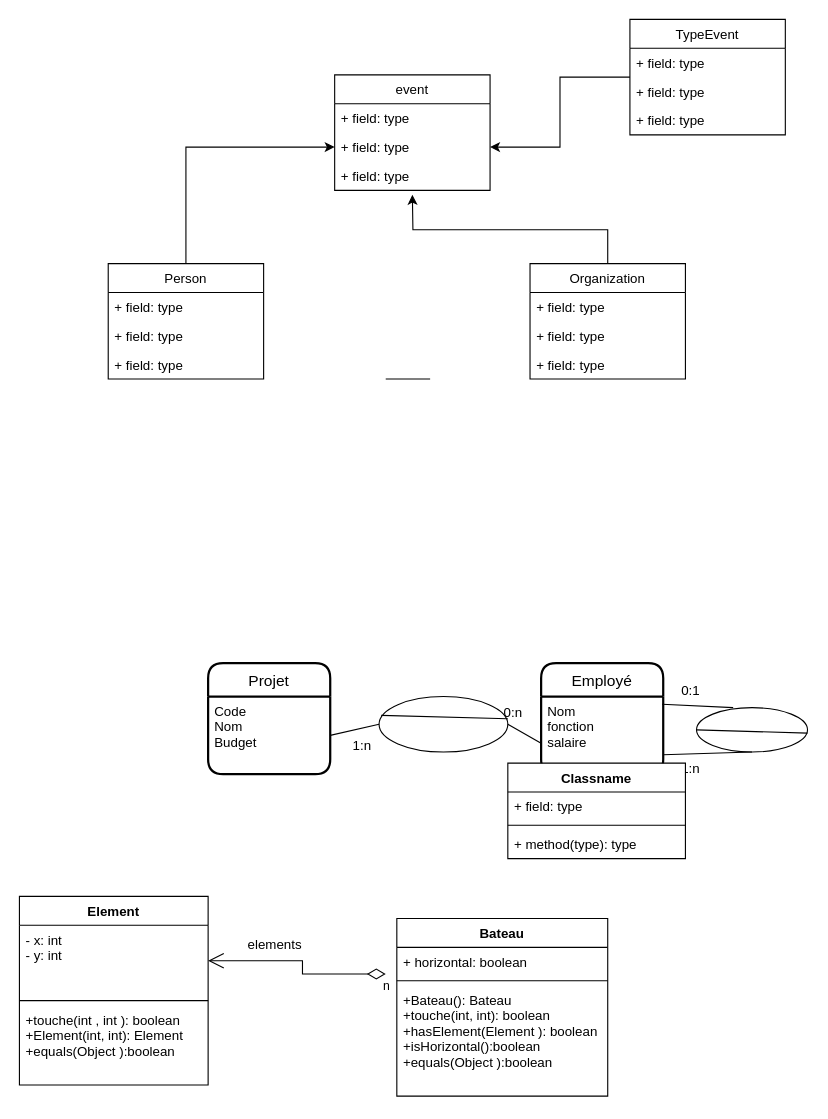
Some shapes in this 828 by 1119 pixel diagram are drawn without their labels. Each missing label, with the centre of its shape:
"Diriger" belongs at (x=751, y=729).
"Participer Taches Nb_heures" belongs at (x=443, y=723).
